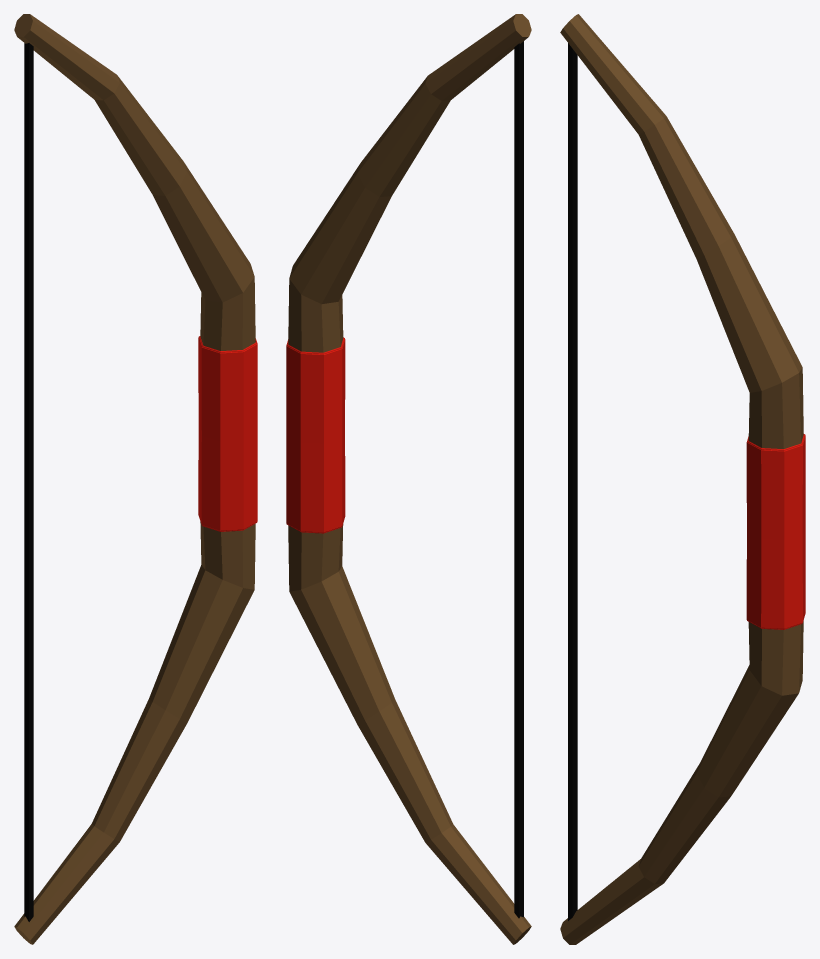
Rendered from bow.fbx.
3 renders of one model, left to right at view 1: azimuth 30°, elevation 25°; view 2: azimuth 150°, elevation 25°; view 3: azimuth 330°, elevation 25°, orthographic.
Parts seen in each view (by area): view 1: Cylinder; view 2: Cylinder; view 3: Cylinder.
Boxes of the visible parts, left/top/right/bottom form: Cylinder: left=14, top=14, right=257, bottom=944; Cylinder: left=286, top=14, right=531, bottom=944; Cylinder: left=560, top=14, right=805, bottom=944.
Size of the model in its own units: 399 by 1486 by 88.79.
